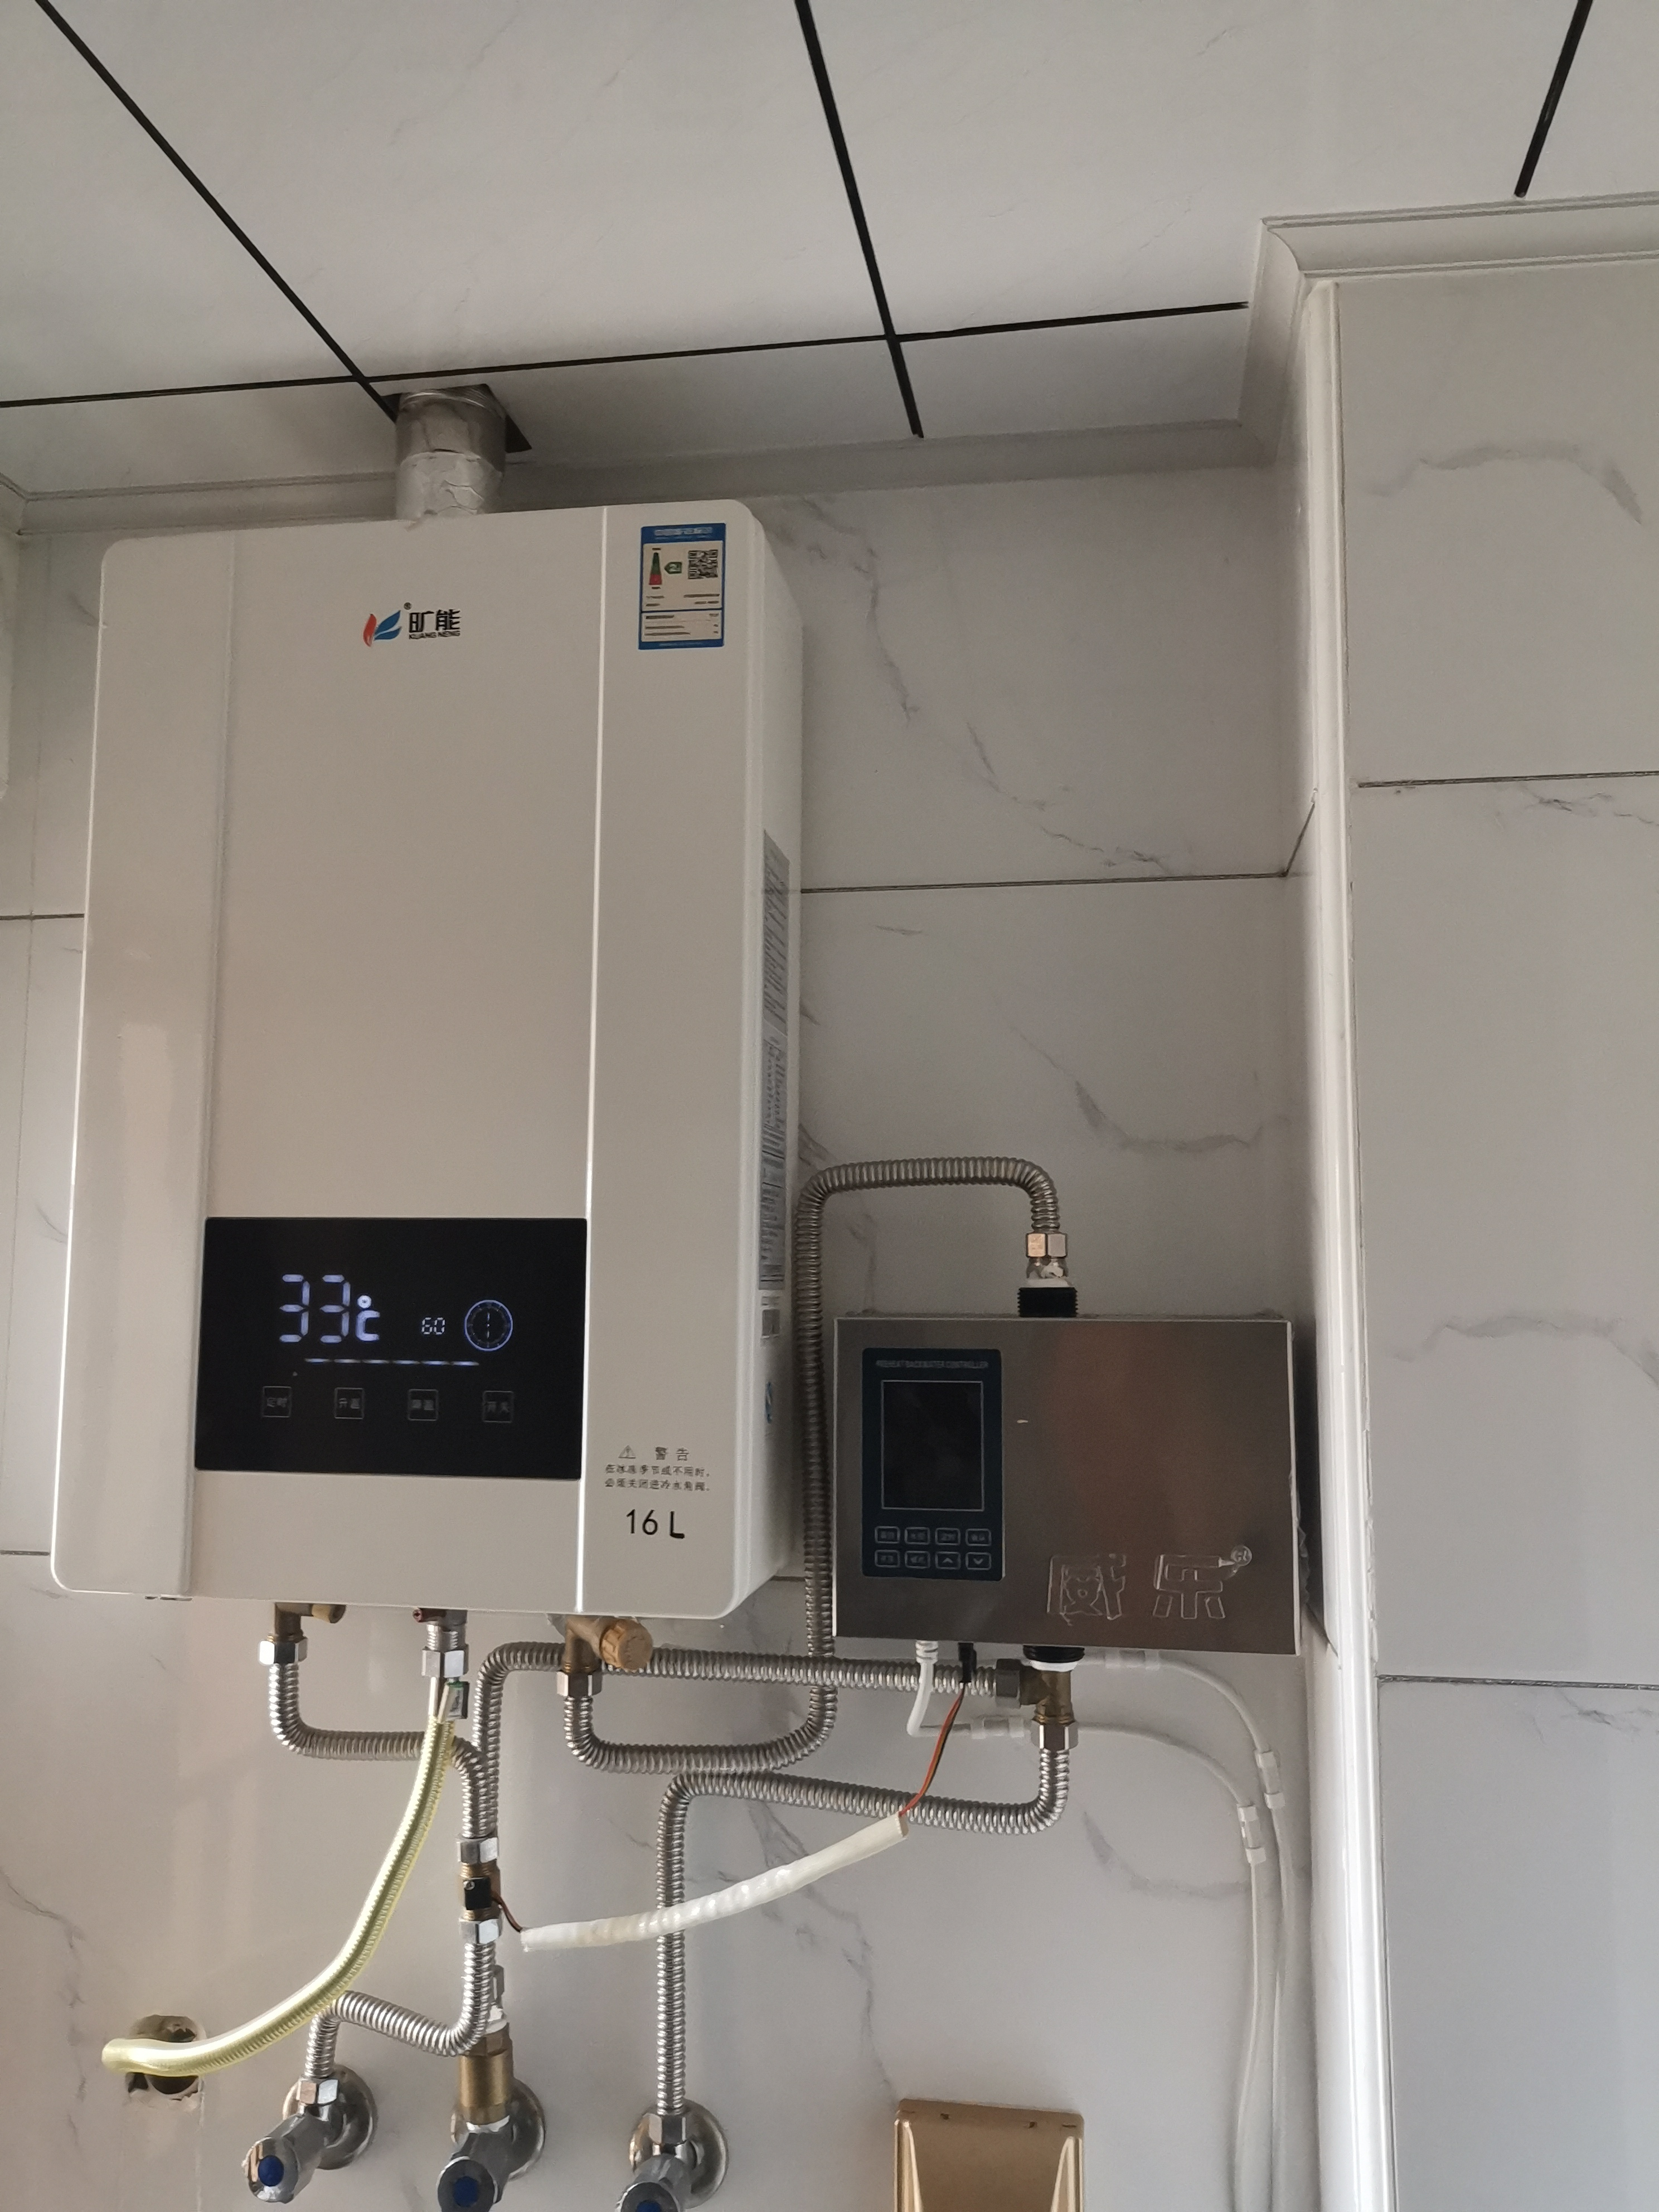loudou: (352, 596, 477, 657)
